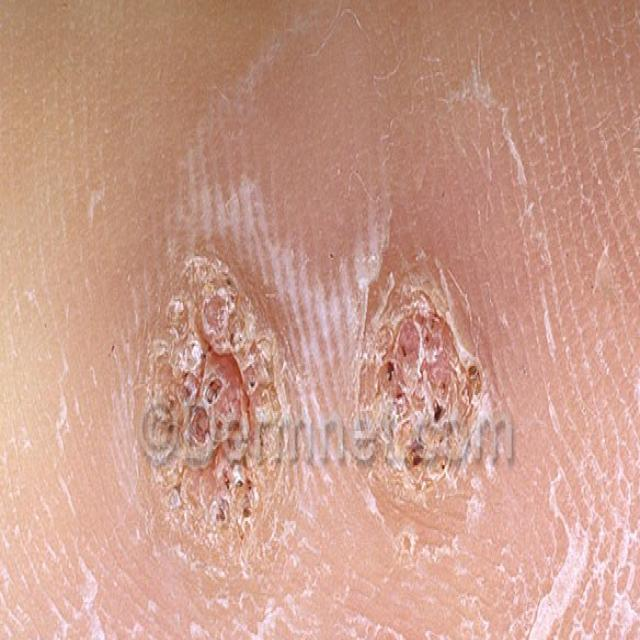Warts: (124, 241, 290, 577), (353, 253, 521, 513)
